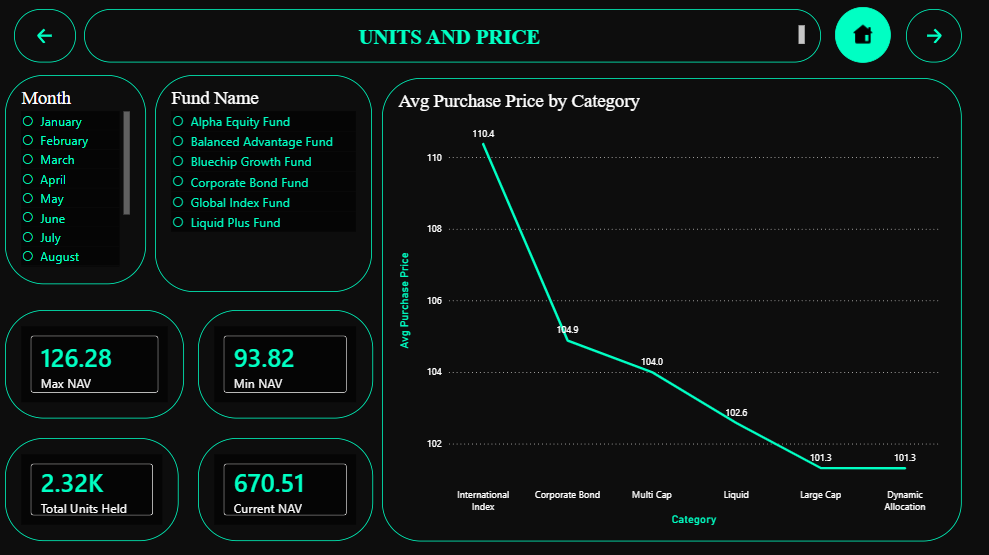

The dashboard page shown, as its layout file describes it:
{"tool":"powerbi","page":{"name":"units and price","canvas":[1280,720],"ordinal":5},"visuals":[{"type":"cardVisual","fields":{"Data":["BankStatement.Total Units Held"]},"box":[10.1,569.6,224.1,133],"z":0},{"type":"listSlicer","fields":{"Values":["Dim_Fund.Fund Name"]},"box":[203.9,101.2,280.5,280.5],"z":1000},{"type":"cardVisual","fields":{"Data":["BankStatement.Max NAV"]},"box":[10.1,403.4,231.3,140.2],"z":2000},{"type":"cardVisual","fields":{"Data":["BankStatement.Min NAV"]},"box":[258.8,403.4,225.5,140.2],"z":3000},{"type":"listSlicer","fields":{"Values":["InvestmentsLedger.Txn Date.Variation.Date Hierarchy.Month"]},"box":[10.1,101.2,182.2,270.4],"z":4000},{"type":"lineChart","fields":{"Y":["BankStatement.Avg Purchase Price"],"Category":["Dim_Fund.Category"]},"box":[497.2,104.1,747.5,598],"z":5000},{"type":"cardVisual","fields":{"Data":["_Measures2.Current NAV"]},"box":[258.8,569.6,225.5,133],"z":6000},{"type":"textbox","box":[112.8,15.9,951.3,69.4],"z":7000},{"type":"actionButton","box":[1172.5,15.9,72.3,69.4],"z":8000},{"type":"actionButton","box":[21.7,15.9,79.5,69.4],"z":9000},{"type":"actionButton","box":[1081.4,13,72.3,72.3],"z":10000}]}

Visuals, with their boxes in screenshot pixels (x1, y1, x2, y2), scaled from the page's 1280x720 canvas onto the 989x555 screenshot:
cardVisual - BankStatement.Total Units Held: (left=8, top=439, right=181, bottom=542)
listSlicer - Dim_Fund.Fund Name: (left=158, top=78, right=374, bottom=294)
cardVisual - BankStatement.Max NAV: (left=8, top=311, right=187, bottom=419)
cardVisual - BankStatement.Min NAV: (left=200, top=311, right=374, bottom=419)
listSlicer - InvestmentsLedger.Txn Date.Variation.Date Hierarchy.Month: (left=8, top=78, right=149, bottom=286)
lineChart - BankStatement.Avg Purchase Price x Dim_Fund.Category: (left=384, top=80, right=962, bottom=541)
cardVisual - _Measures2.Current NAV: (left=200, top=439, right=374, bottom=542)
textbox: (left=87, top=12, right=822, bottom=66)
actionButton: (left=906, top=12, right=962, bottom=66)
actionButton: (left=17, top=12, right=78, bottom=66)
actionButton: (left=836, top=10, right=891, bottom=66)
